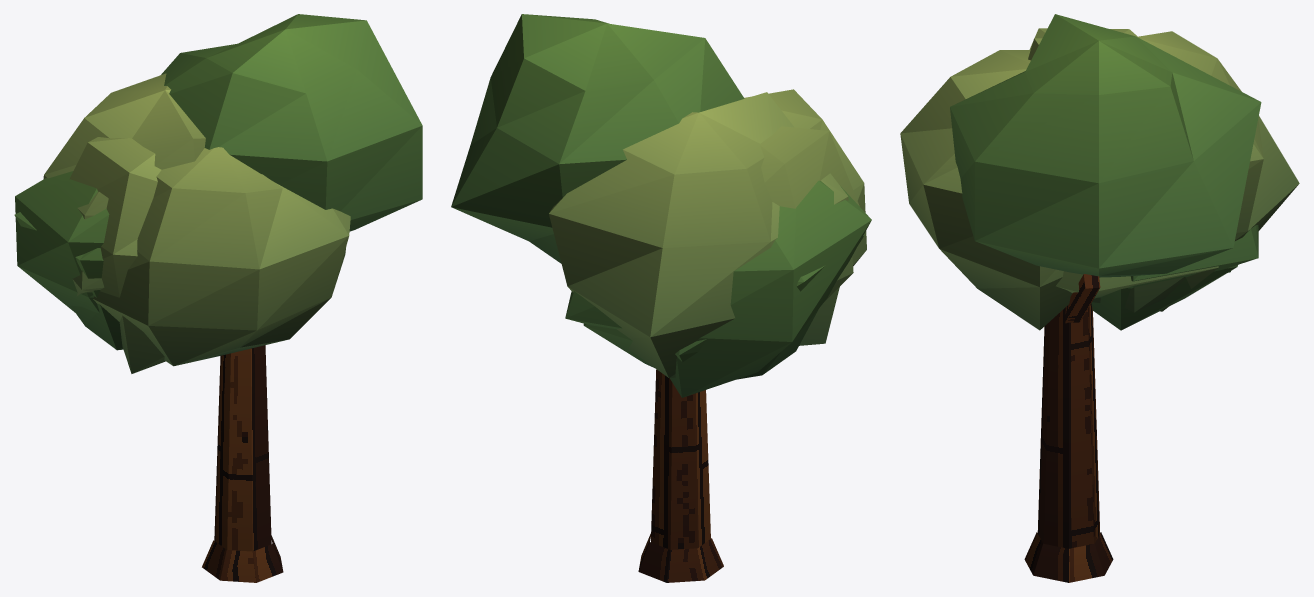
File: apple_2_lowpoly.glb
The picture shows the model from 3 angles, left to right: view 1: azimuth 30°, elevation 25°; view 2: azimuth 150°, elevation 25°; view 3: azimuth 270°, elevation 25°; orthographic projection. The views are drawn at different scales.
Parts seen in each view (by area): view 1: apple_2_lowpoly; view 2: apple_2_lowpoly; view 3: apple_2_lowpoly.
Part boxes in pixels (bbox=[...]): apple_2_lowpoly: bbox=[14, 14, 422, 582]; apple_2_lowpoly: bbox=[451, 14, 871, 582]; apple_2_lowpoly: bbox=[900, 14, 1299, 582].
Bounding box in the file's own units: 3.58 × 4.81 × 3.15.
2 materials, 1 textured.
